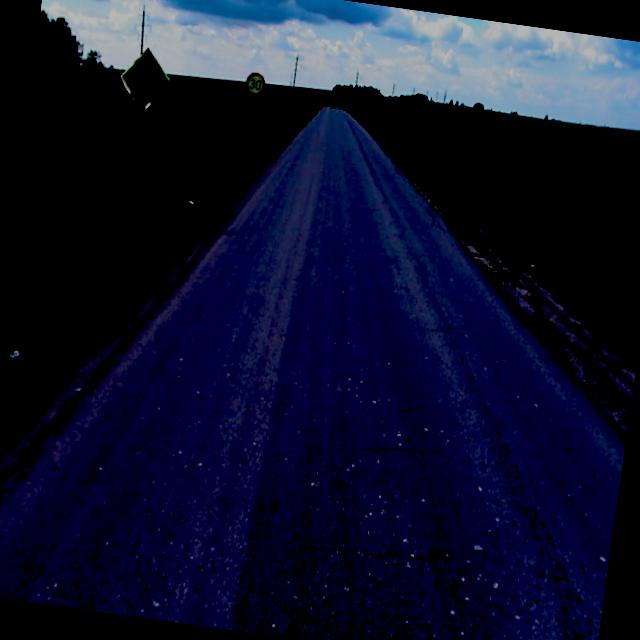road: (0, 105, 626, 640)
